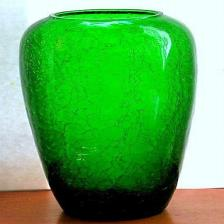green: (19, 9, 195, 220)
